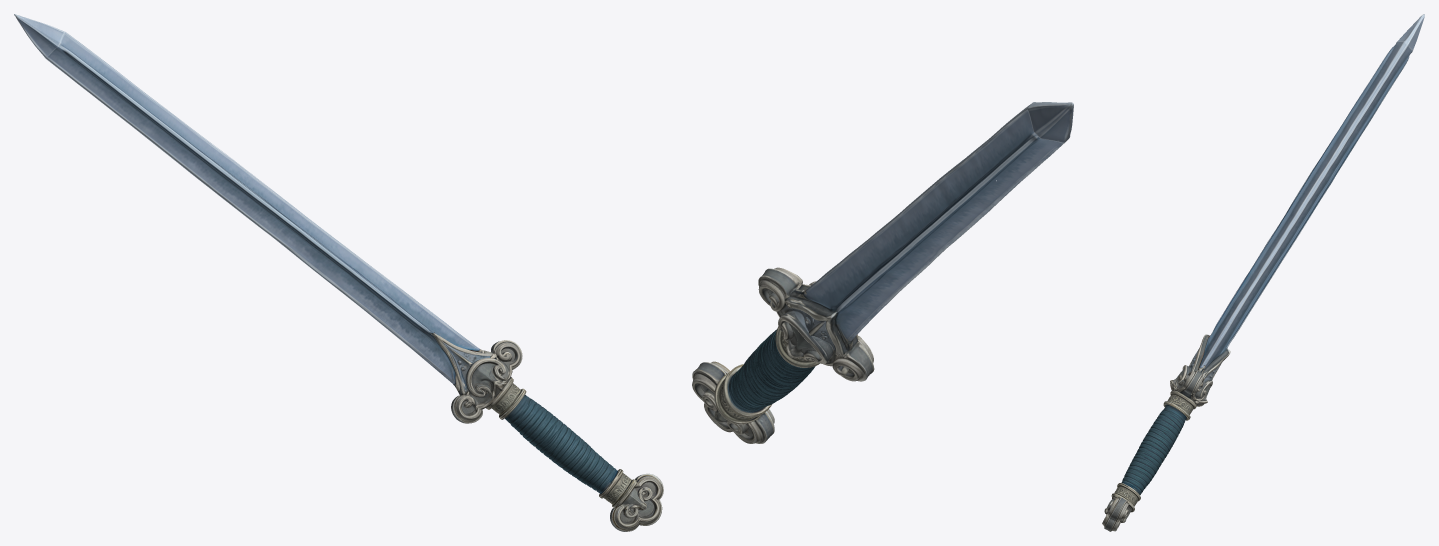
File: eq_longquanjian_raw.glb
3 views of the same model, side by side, from view 1: azimuth 30°, elevation 25°; view 2: azimuth 150°, elevation 25°; view 3: azimuth 270°, elevation 25° (orthographic). The views are drawn at different scales.
Visible parts, largest first — view 1: tripo_node_12b9b7e3-d83e-48d0-9a0c-19336163bc28; view 2: tripo_node_12b9b7e3-d83e-48d0-9a0c-19336163bc28; view 3: tripo_node_12b9b7e3-d83e-48d0-9a0c-19336163bc28.
Part boxes in pixels (<box>): tripo_node_12b9b7e3-d83e-48d0-9a0c-19336163bc28: <box>14,14,663,531</box>; tripo_node_12b9b7e3-d83e-48d0-9a0c-19336163bc28: <box>692,102,1073,443</box>; tripo_node_12b9b7e3-d83e-48d0-9a0c-19336163bc28: <box>1102,14,1424,531</box>.
Size of the model in its own units: 0.9785 by 0.9804 by 0.7972.
1 material, 1 textured.
